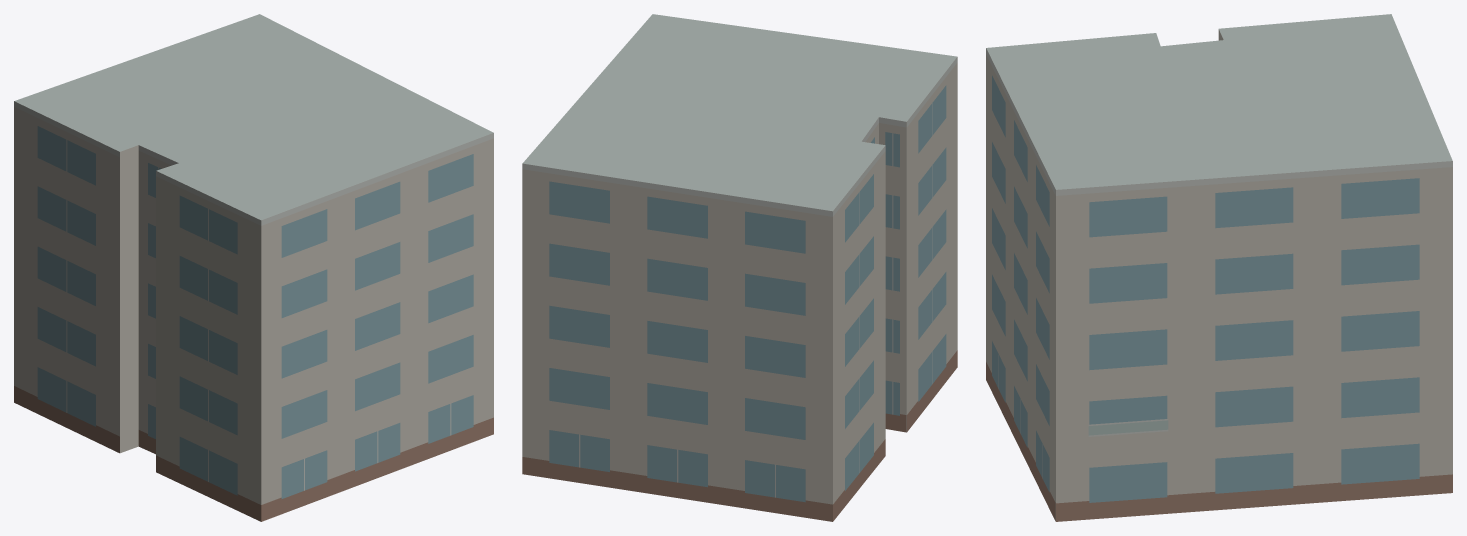
The model's file is survey-upis-33041541.glb.
3 renders of one model, left to right at view 1: azimuth 30°, elevation 25°; view 2: azimuth 150°, elevation 25°; view 3: azimuth 270°, elevation 25°, orthographic. The views are drawn at different scales.
Visible parts, largest first — view 1: survey-upis-33041541.tmp; view 2: survey-upis-33041541.tmp; view 3: survey-upis-33041541.tmp.
Boxes of the visible parts, box(x1,y1,x2,y2) form: survey-upis-33041541.tmp: box(14, 14, 493, 521); survey-upis-33041541.tmp: box(522, 14, 957, 521); survey-upis-33041541.tmp: box(986, 14, 1452, 521).
Bounding box in the file's own units: 15.24 × 13.4 × 17.08.
